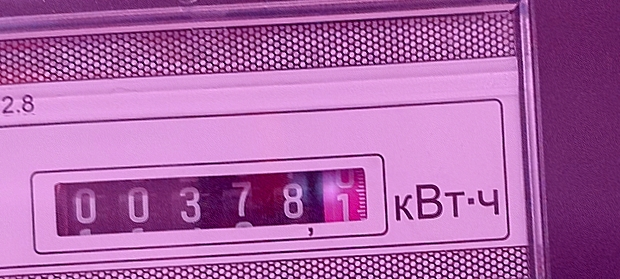0: (73, 183, 101, 224), (126, 183, 151, 222), (334, 166, 356, 188)
1: (334, 189, 354, 221)
3: (177, 183, 204, 224)
7: (230, 178, 254, 217)
8: (281, 179, 305, 219)
screen: (34, 148, 387, 246)
